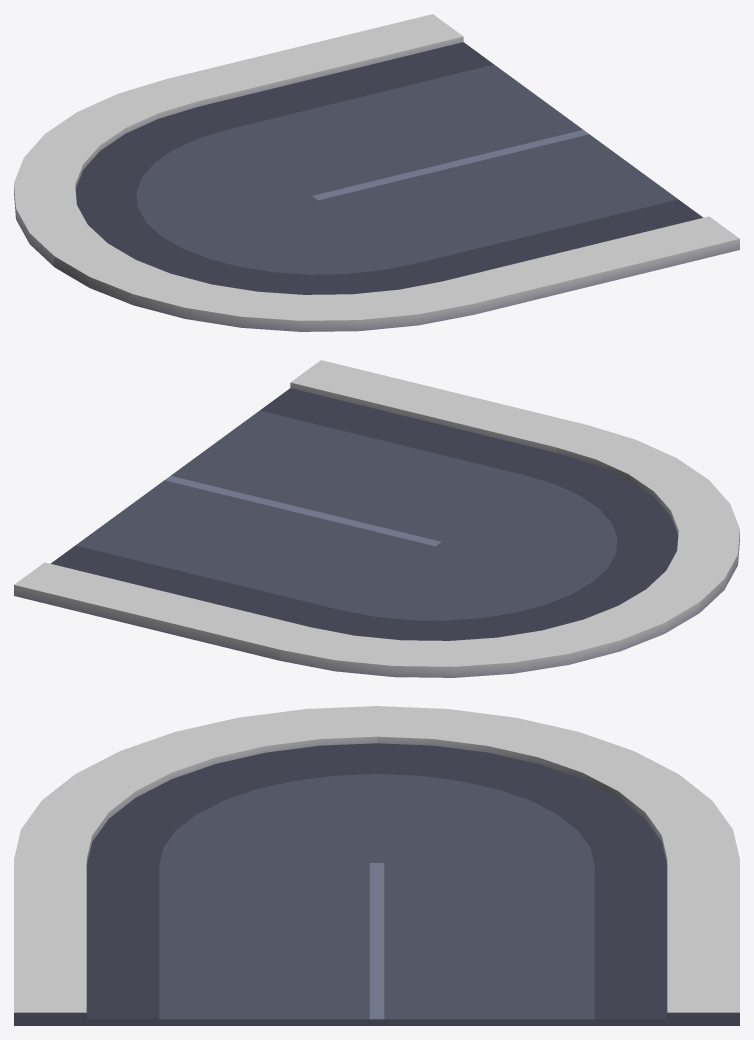
The model's file is road-end-round.glb.
The picture shows the model from 3 angles, top to bottom: view 1: azimuth 30°, elevation 25°; view 2: azimuth 150°, elevation 25°; view 3: azimuth 270°, elevation 25°; orthographic projection. The views are drawn at different scales.
Parts seen in each view (by area): view 1: road-end-round; view 2: road-end-round; view 3: road-end-round.
Boxes of the visible parts, x1=… form: road-end-round: x1=14, y1=14, x2=739, y2=331; road-end-round: x1=14, y1=360, x2=739, y2=677; road-end-round: x1=14, y1=706, x2=739, y2=1025.
Bounding box in the file's own units: 1 × 0.02 × 1.
